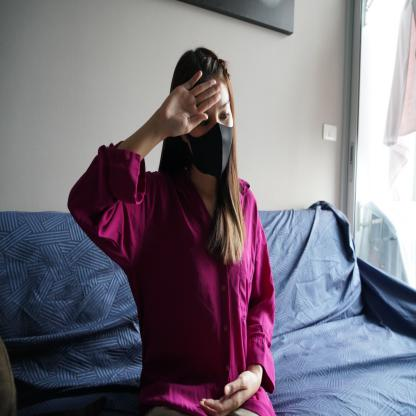Sick: (154, 67, 223, 140)
